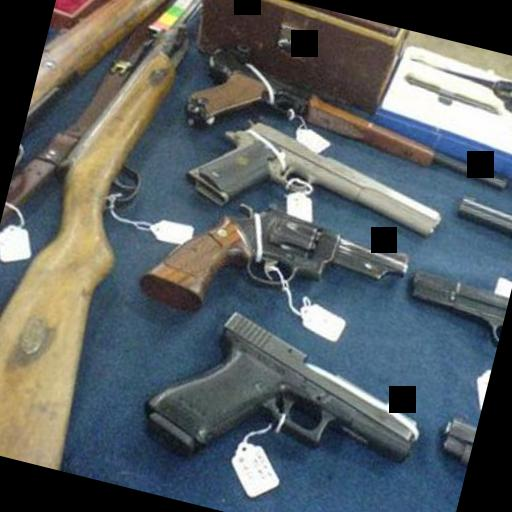Handgun: (124, 292, 442, 506), (134, 177, 418, 362), (169, 100, 458, 261)
